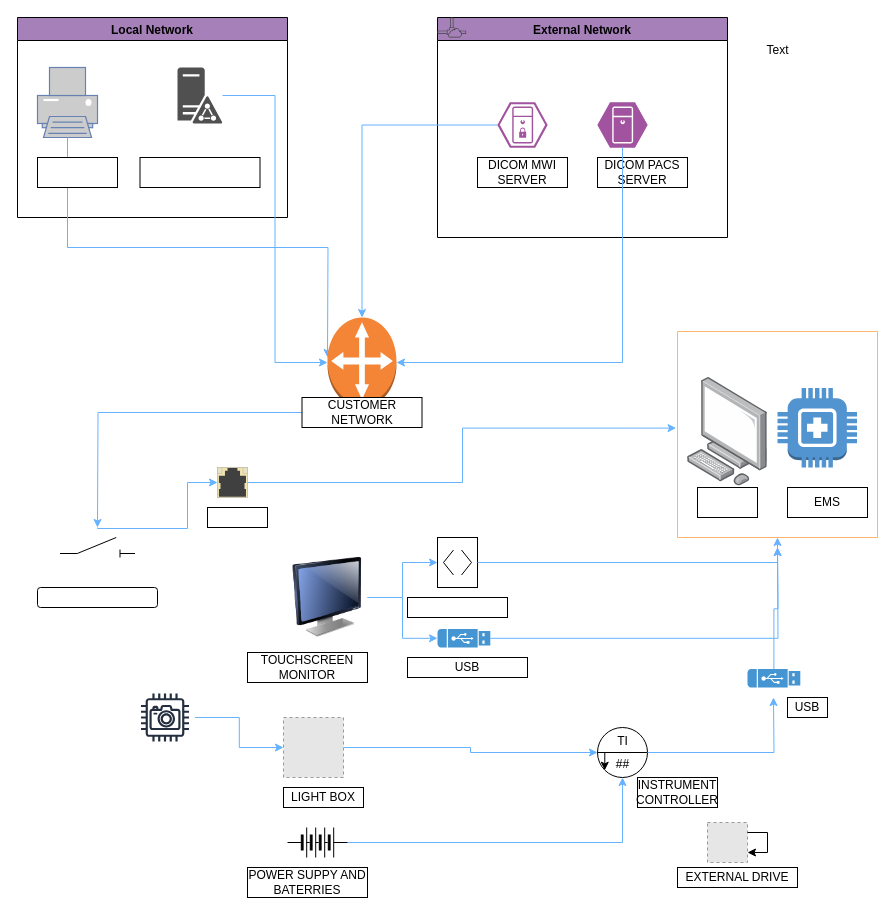
The diagram is 895 pixels wide and 915 high, and some of its shapes have lost their labels. Grey dashed boxes stand in for pictures. The centre of each missing label's shape, as x and y in pixels:
"ACTIVE DIRECTORY SERVER" goes at [199,172].
"CAMERA" goes at [164,717].
"DISPLAY PORT" goes at [457,607].
"ISOLATOR" goes at [97,597].
"NETWORK PRINTER" goes at [77,172].
"RJ45" goes at [237,517].
"SBC" goes at [727,502].
